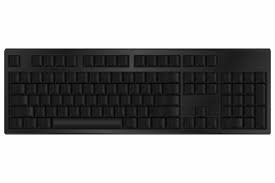keyboard: (2, 42, 271, 135)
